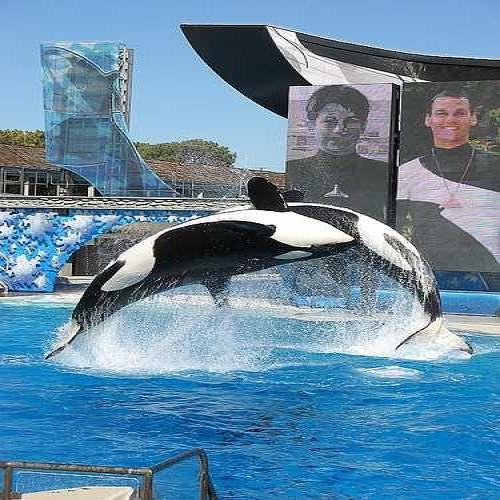killer_whale-endangered: (158, 167, 454, 341), (40, 185, 353, 317)
